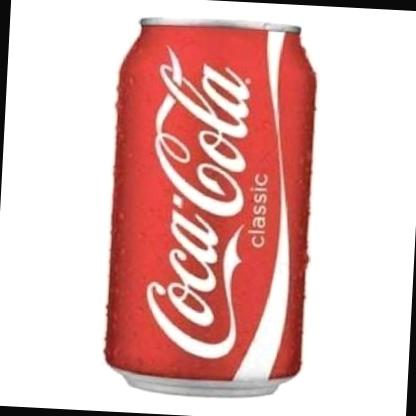alumunium_can: (100, 12, 321, 403)
